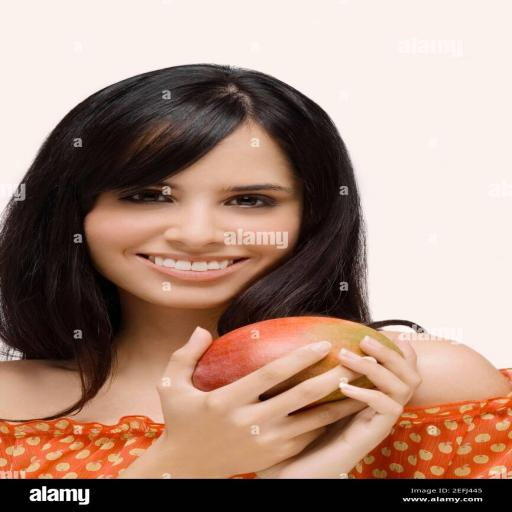mango: (193, 317, 403, 400)
